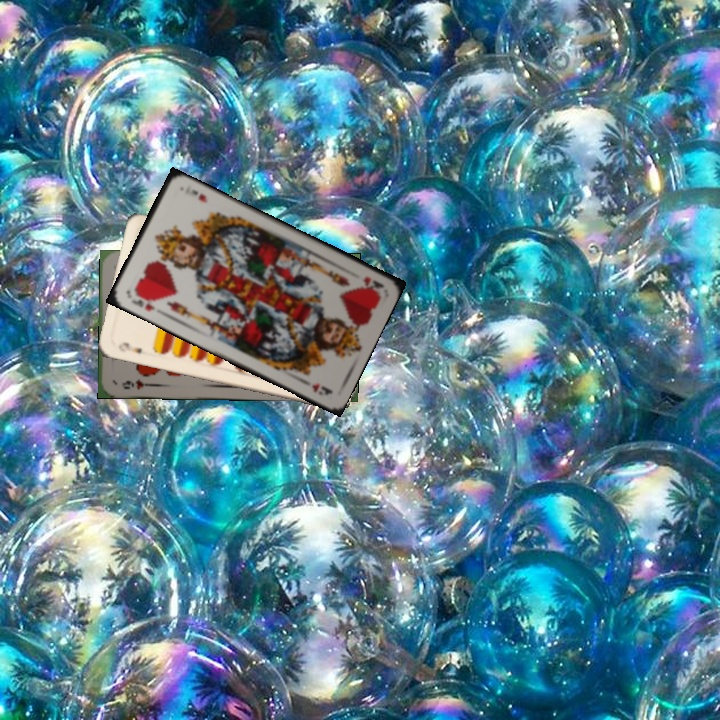E9: (114, 338, 144, 356)
H9: (118, 375, 153, 392)
HK: (359, 272, 386, 295), (127, 295, 158, 314)
